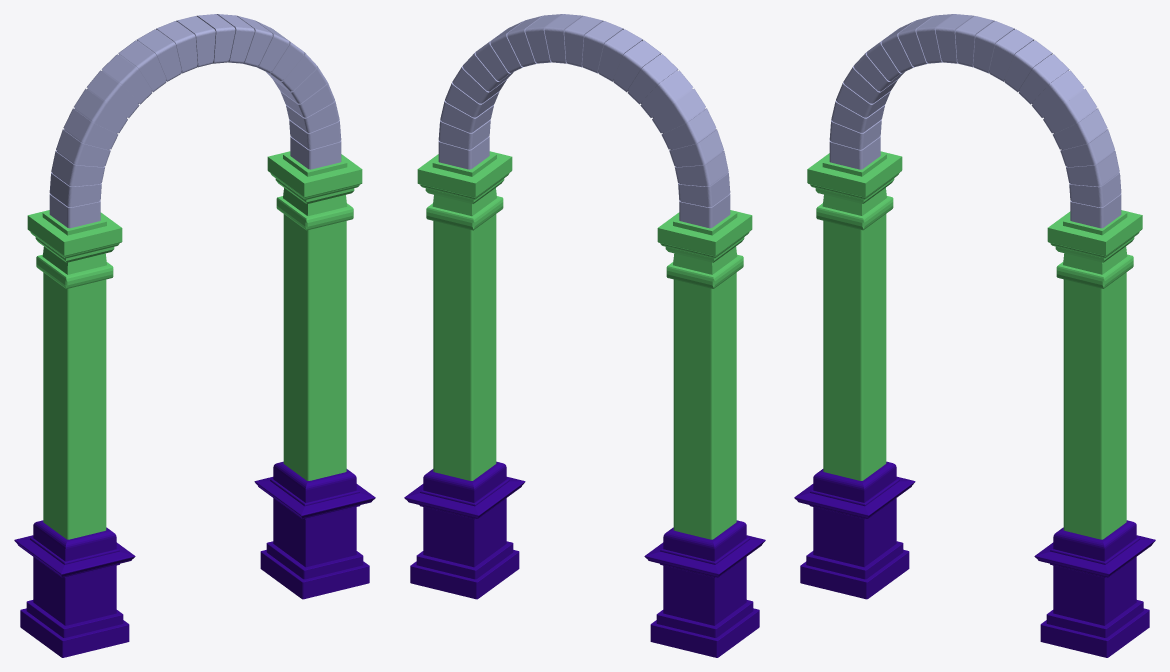
The model's file is Arch1.fbx.
The picture shows the model from 3 angles, left to right: view 1: azimuth 30°, elevation 25°; view 2: azimuth 150°, elevation 25°; view 3: azimuth 330°, elevation 25°; orthographic projection.
Parts seen in each view (by area): view 1: Cube.054; view 2: Cube.054; view 3: Cube.054.
Part boxes in pixels (left/top/right/bottom): Cube.054: left=14, top=14, right=375, bottom=657; Cube.054: left=404, top=14, right=765, bottom=657; Cube.054: left=794, top=14, right=1155, bottom=657.
Size of the model in its own units: 1740 by 3069 by 449.
